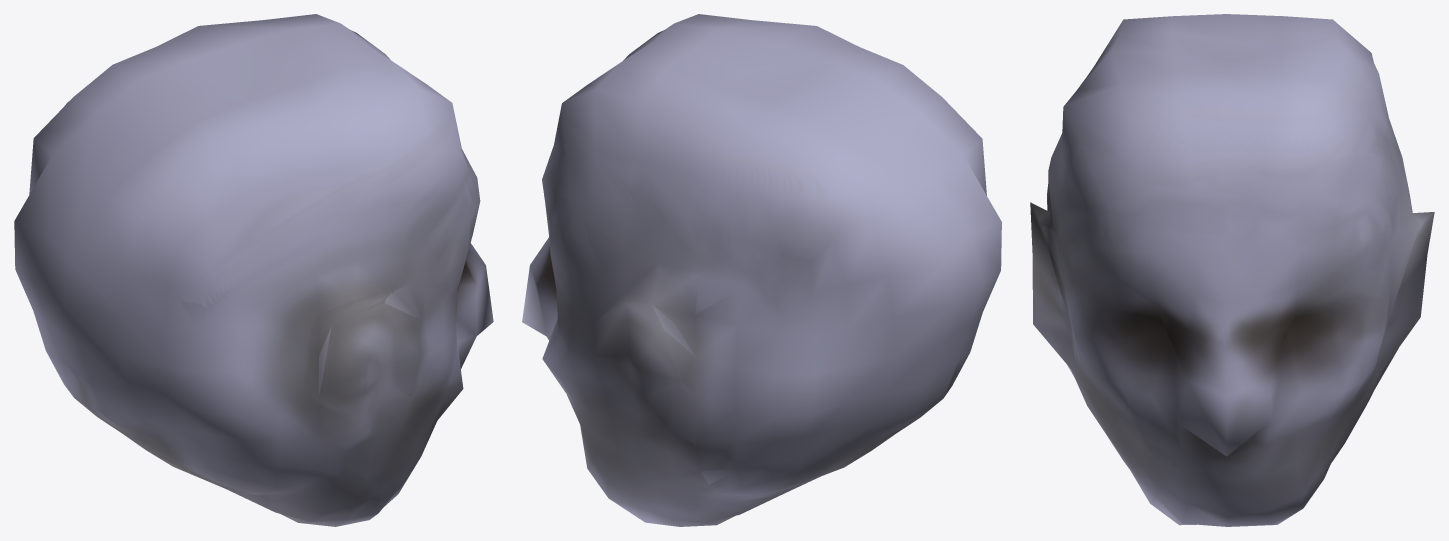
File: CabezaCera.fbx
3 renders of one model, left to right at view 1: azimuth 30°, elevation 25°; view 2: azimuth 150°, elevation 25°; view 3: azimuth 270°, elevation 25°, orthographic. The views are drawn at different scales.
Parts seen in each view (by area): view 1: Cube; view 2: Cube; view 3: Cube.
Boxes of the visible parts, x1,y1,x2,y2 form: Cube: [14, 14, 493, 526]; Cube: [522, 14, 1001, 526]; Cube: [1030, 14, 1434, 526].
Bounding box in the file's own units: 280 × 268 × 222.
